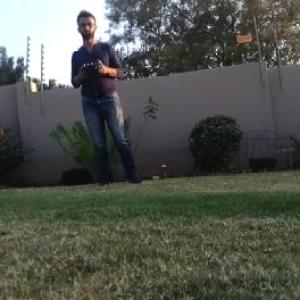follow: (68, 0, 149, 190)
